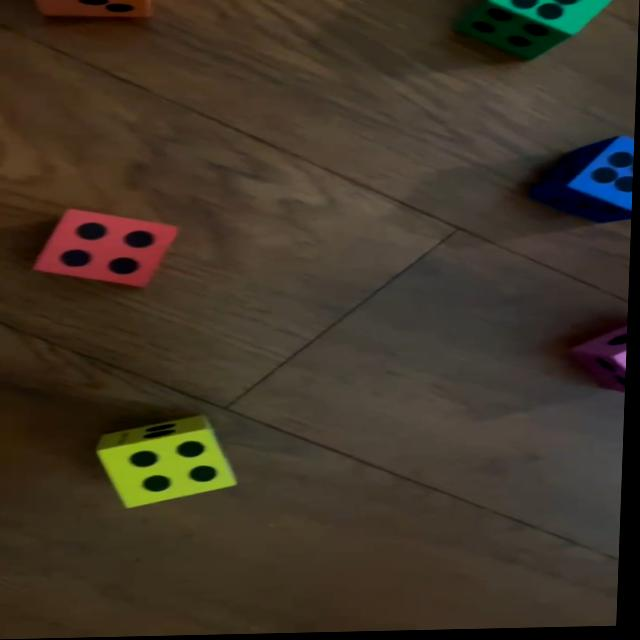blue_block: (531, 138, 636, 227)
red_block: (36, 208, 179, 288)
